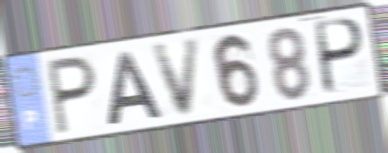6: (211, 31, 261, 112)
8: (265, 25, 314, 102)
A: (105, 50, 164, 128)
P: (45, 53, 99, 137), (315, 16, 367, 98)
V: (149, 35, 203, 121)
